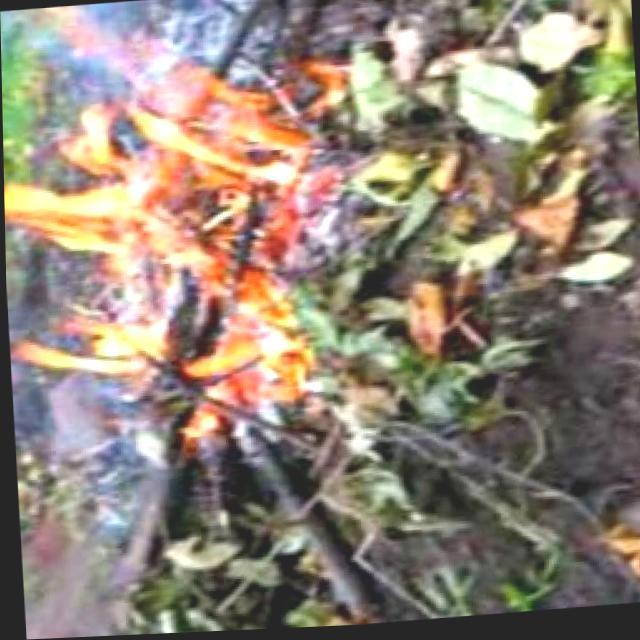helmet: (4, 64, 299, 436)
